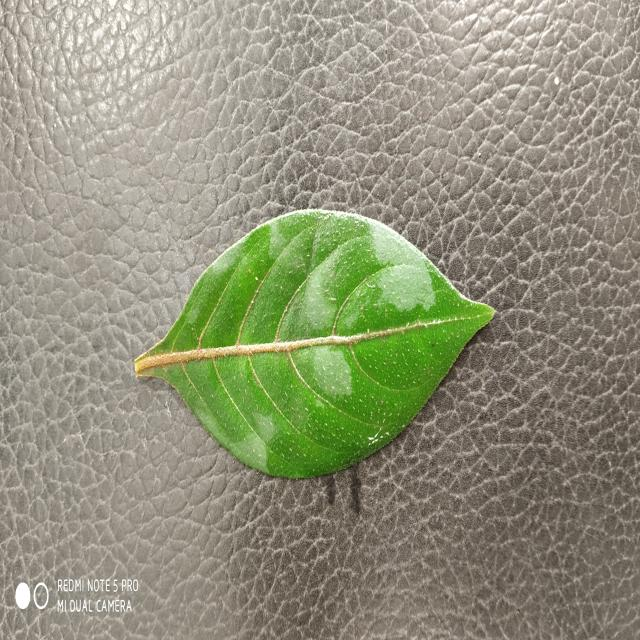ganike: (135, 209, 494, 478)
